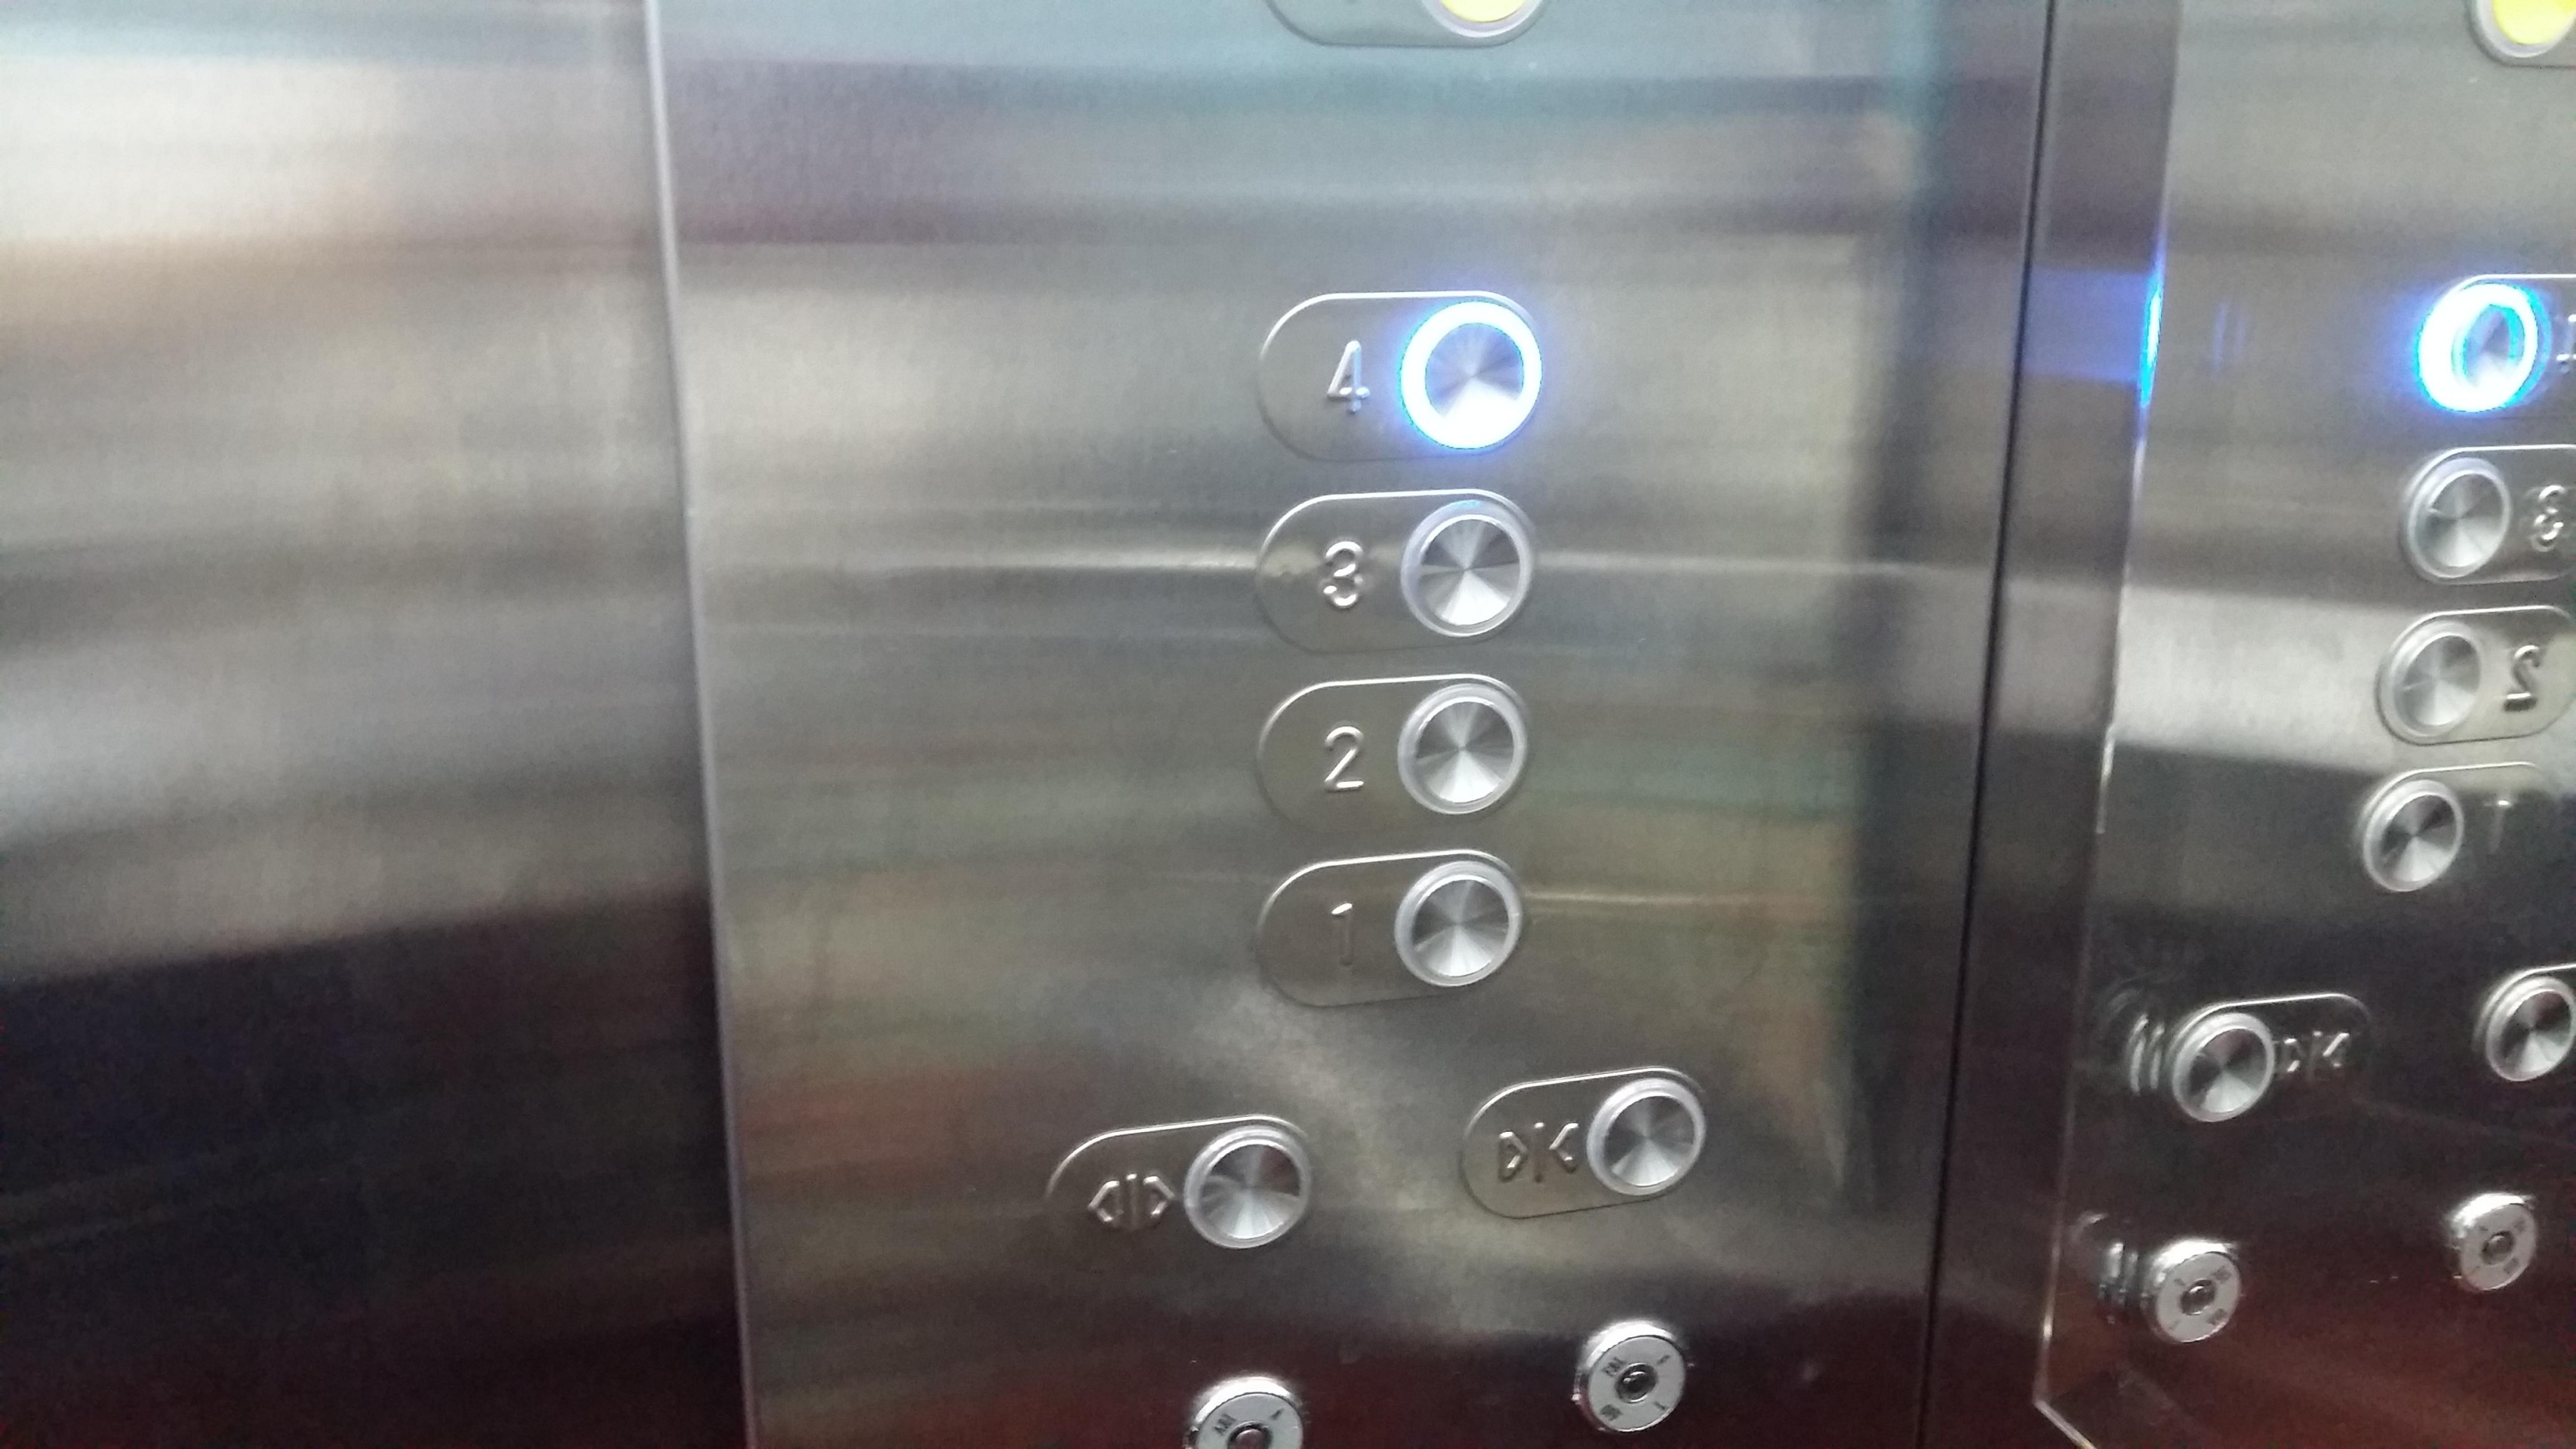1: (1253, 847, 1536, 1012), (2327, 757, 2576, 908)
2: (1253, 669, 1545, 832)
3: (1244, 481, 1545, 662)
4: (1244, 280, 1553, 472)
close: (1456, 1063, 1713, 1224), (2134, 984, 2383, 1134)
indicator: (1564, 1313, 1706, 1449), (2118, 1224, 2259, 1361), (2436, 1185, 2551, 1309), (1185, 1368, 1316, 1449)
open: (1040, 1109, 1323, 1274)
unknown: (2360, 603, 2576, 750)
